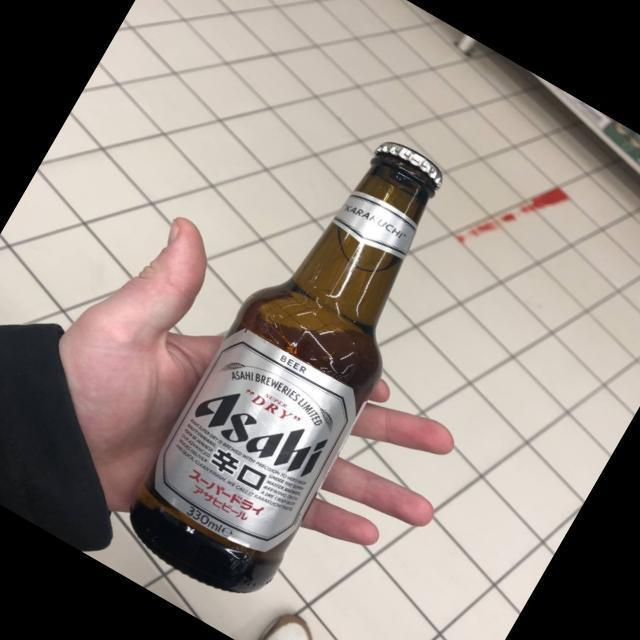Glass: (129, 141, 444, 594)
